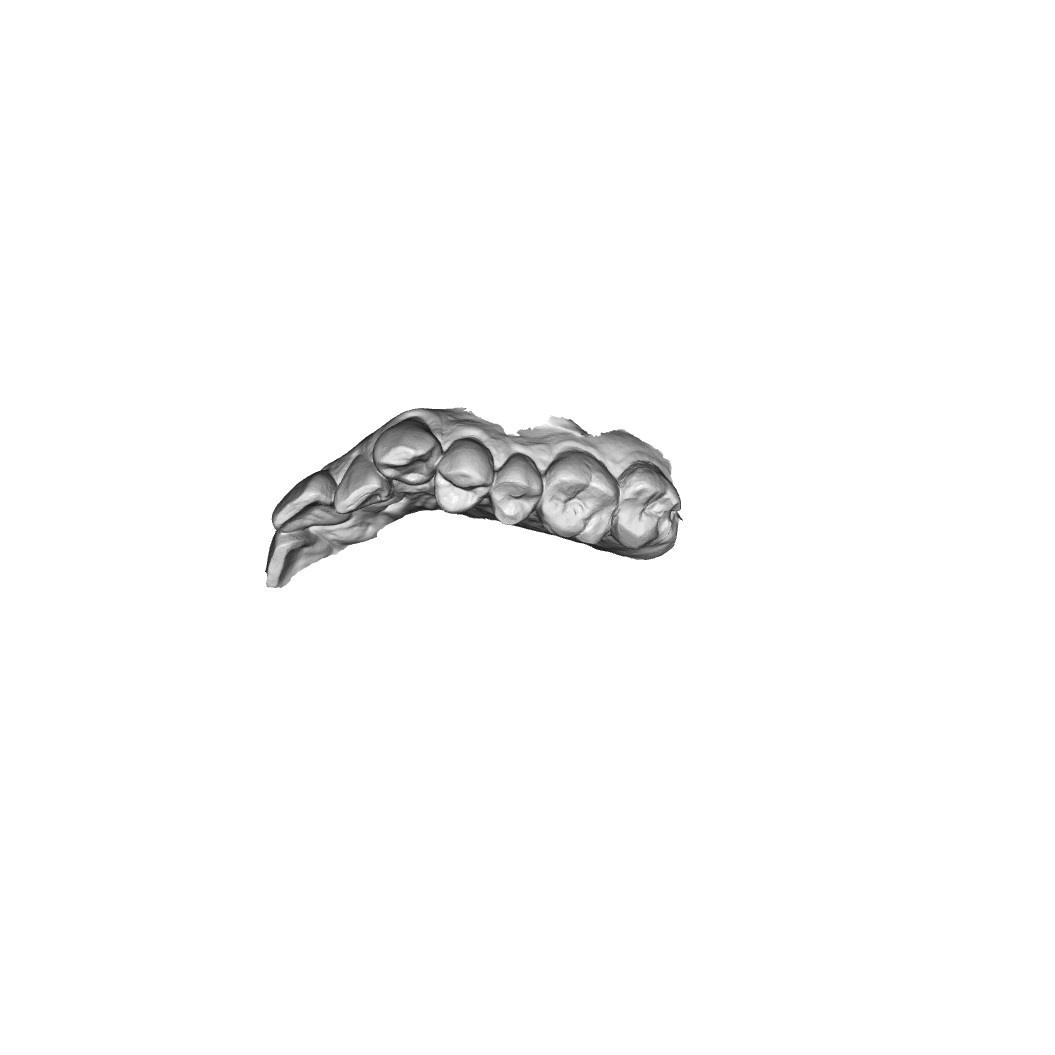canine: (373, 419, 436, 482)
incisor: (269, 482, 338, 533), (267, 536, 331, 587), (336, 458, 384, 511)
molar: (534, 453, 616, 548), (611, 460, 682, 555)
premolar: (429, 443, 489, 515), (485, 456, 541, 533)
